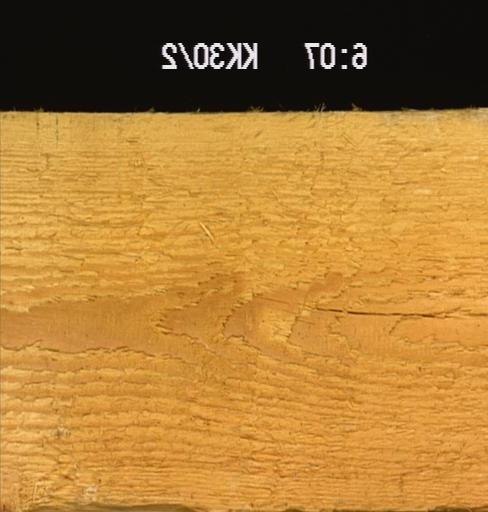split: (312, 303, 486, 315)
wave: (27, 501, 202, 511), (423, 503, 486, 510)
